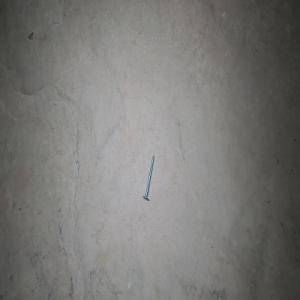Bolt: (142, 154, 154, 200)
